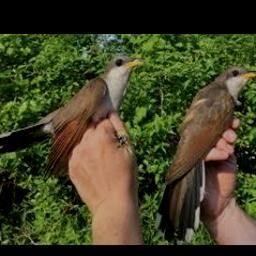Cuckoo: (0, 55, 144, 180), (157, 66, 256, 243)
